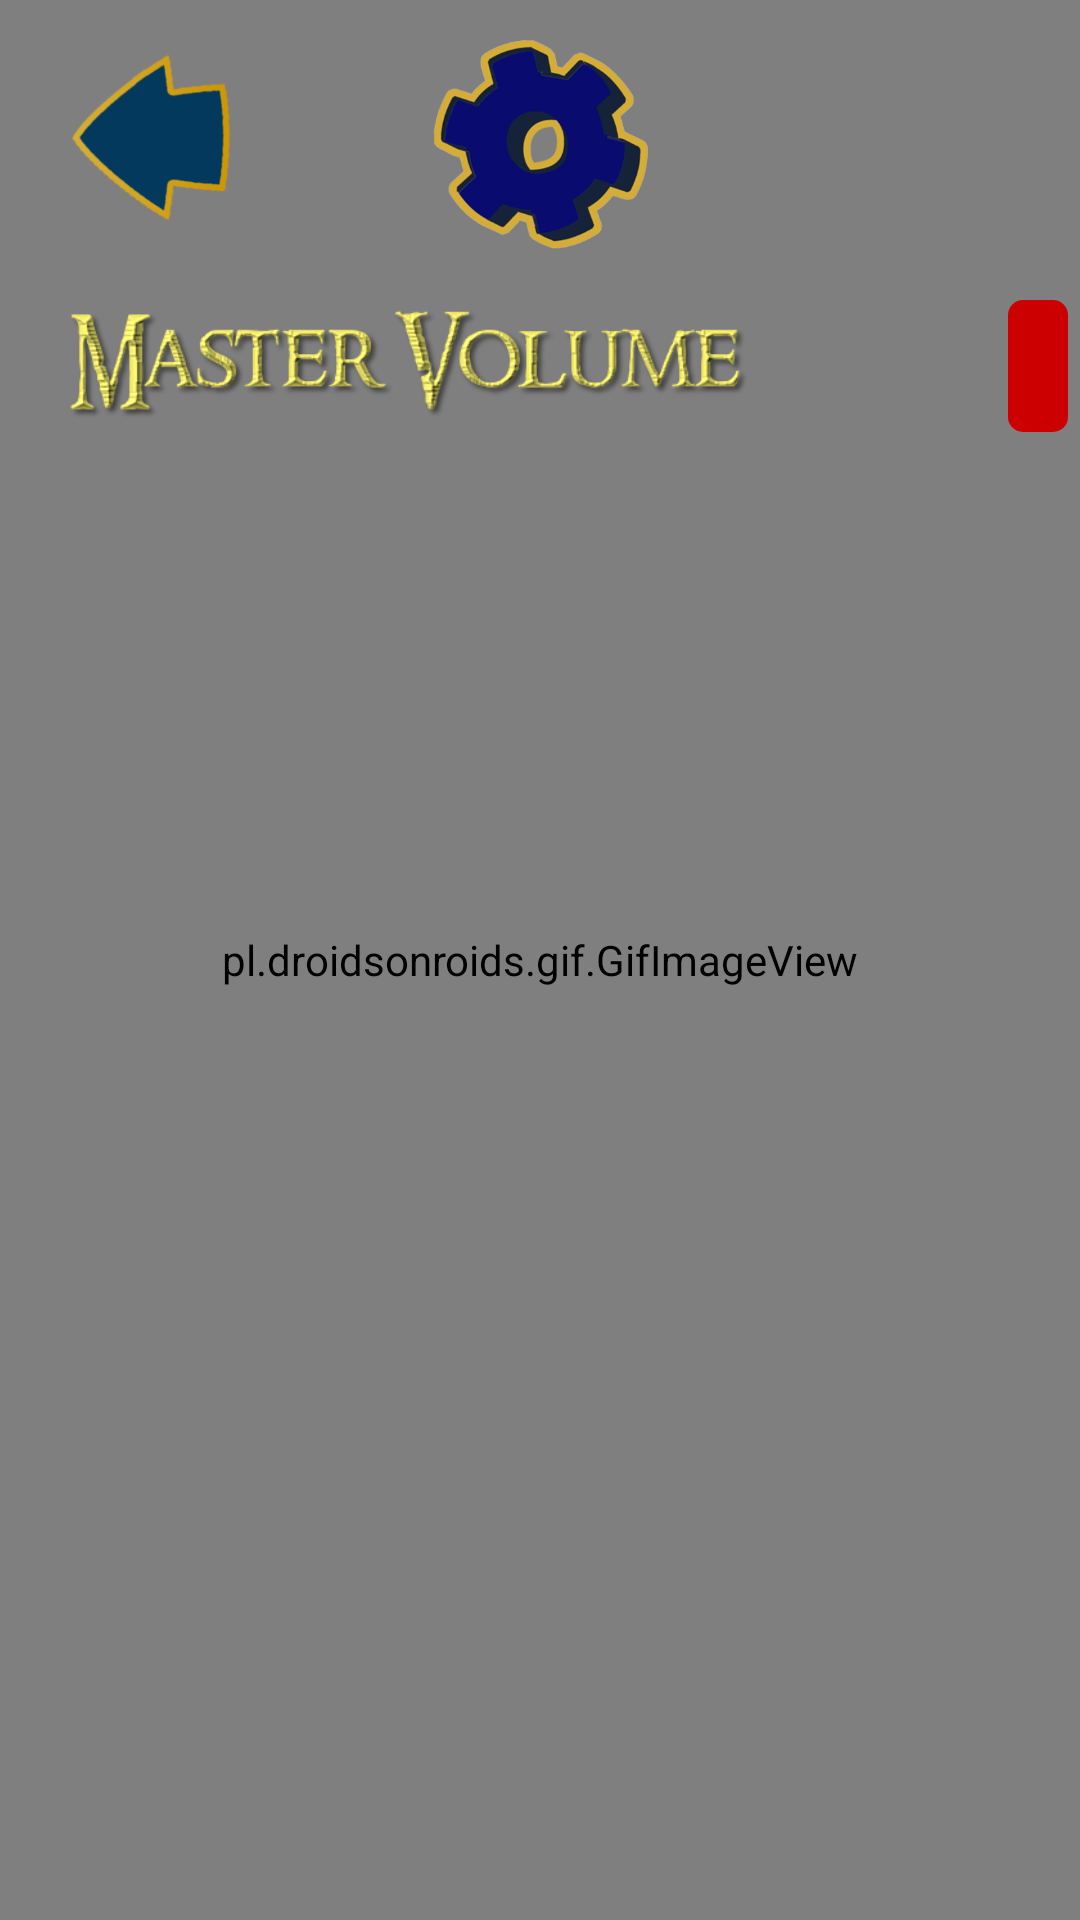

Icons on this 1080w x 1920h Android screen, each with the point to tap as point (x, y):
back: point (151, 137)
settings main menu: point (541, 144)
